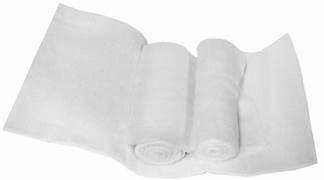cotton: (5, 5, 315, 176), (5, 5, 145, 160), (128, 43, 190, 164), (192, 39, 245, 160)
